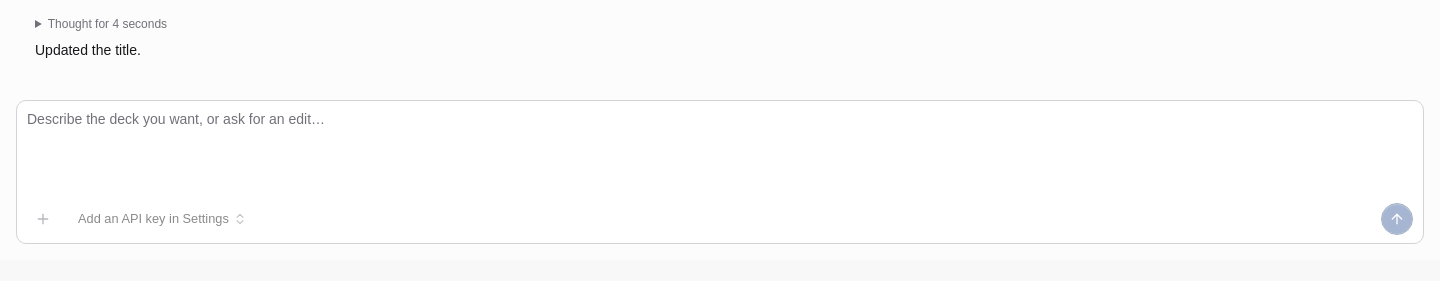
Test: ChatPanel submit control › renders collapsible muted thinking parts
The width and height of the screenshot is (1440, 281).
Expected: the text "I will patch the title." is not shown
Click the heading "Thought for 4 seconds". click: (101, 24)
box: left=35, top=16, right=167, bottom=32
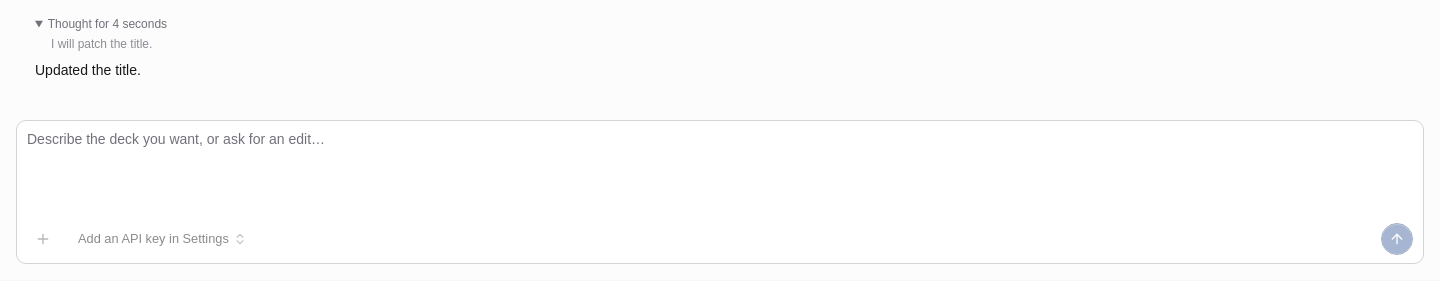
Expected: the text "I will patch the title." is shown, left=51, top=37, right=152, bottom=51
